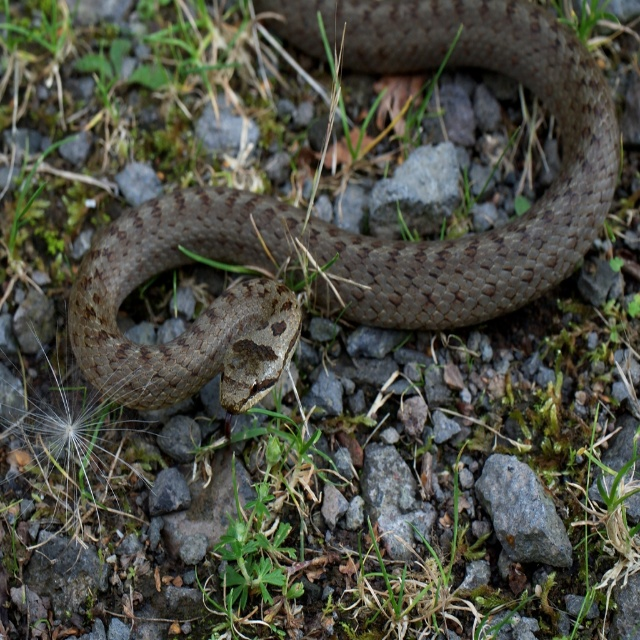Snake: (67, 0, 621, 440)
